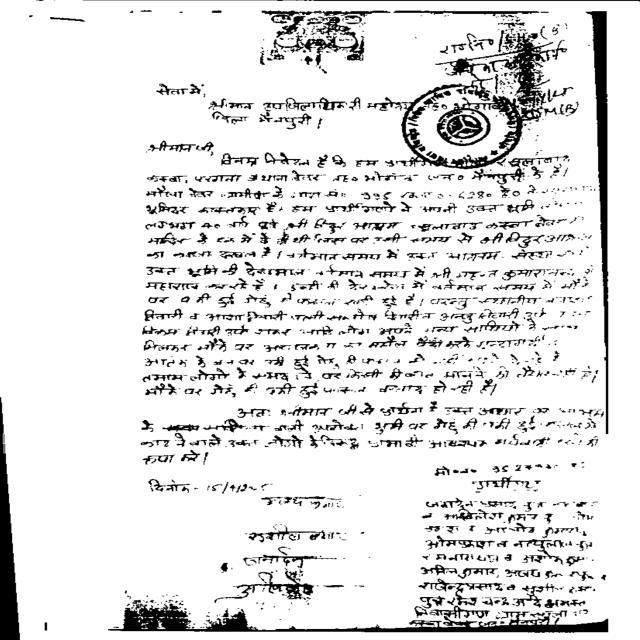logo: (397, 83, 530, 166)
